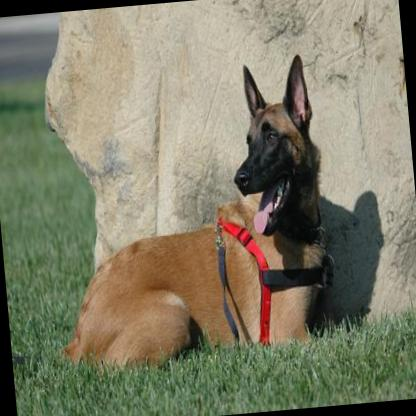malinois: (34, 50, 342, 384)
